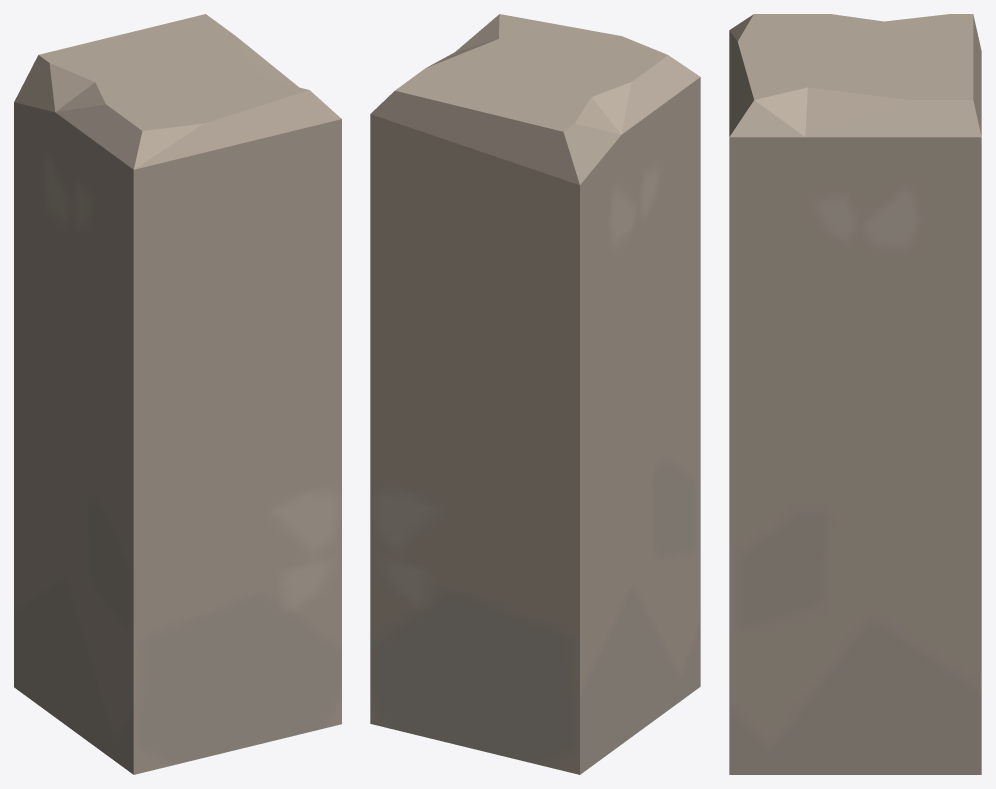
File: SM_Bld_Village_Wall_Pillar_01.fbx
3 renders of one model, left to right at view 1: azimuth 30°, elevation 25°; view 2: azimuth 150°, elevation 25°; view 3: azimuth 270°, elevation 25°, orthographic. The views are drawn at different scales.
Visible parts, largest first — view 1: SM_Bld_Village_Wall_Pillar_01; view 2: SM_Bld_Village_Wall_Pillar_01; view 3: SM_Bld_Village_Wall_Pillar_01.
Boxes of the visible parts, <box> form: SM_Bld_Village_Wall_Pillar_01: <box>14,14,341,774</box>; SM_Bld_Village_Wall_Pillar_01: <box>370,14,700,774</box>; SM_Bld_Village_Wall_Pillar_01: <box>729,14,981,774</box>.
Size of the model in its own units: 60.35 by 175 by 60.13.
